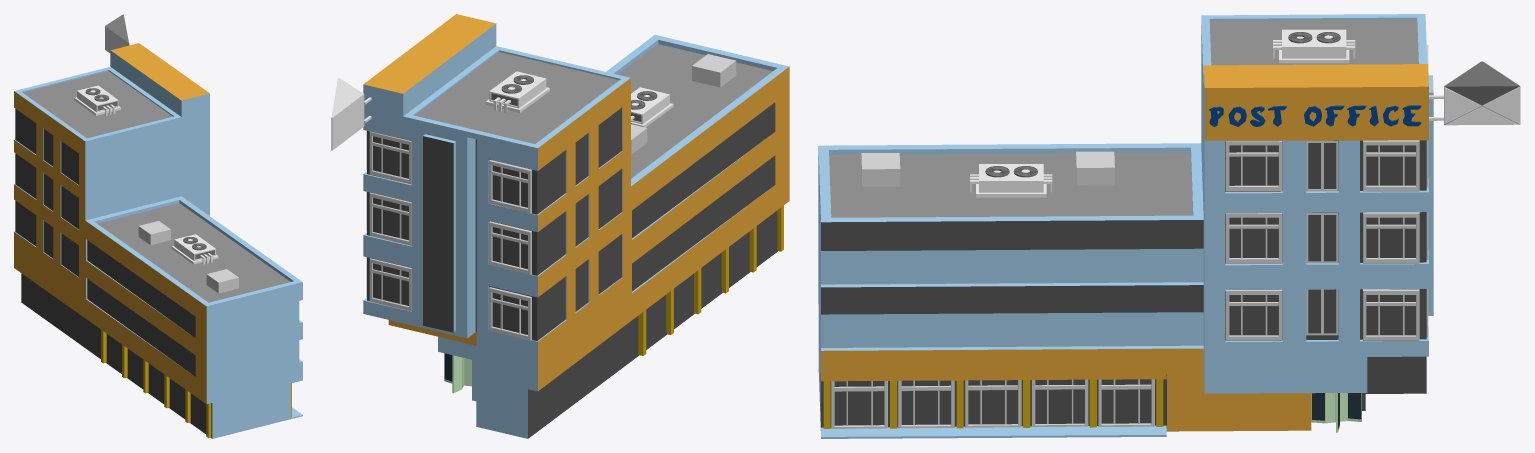
Rendered from Post_Office.glb.
The picture shows the model from 3 angles, left to right: view 1: azimuth 30°, elevation 25°; view 2: azimuth 150°, elevation 25°; view 3: azimuth 270°, elevation 25°; orthographic projection. The views are drawn at different scales.
Parts seen in each view (by area): view 1: post office, Cube.2382, Cube.13378, Cube.13377, Plane.438, Cube.2391, Cube.2392; view 2: post office, London Police Service Headquarters, 601 Dundas St, London, . (×6), Cube.2382, Plane.438, Cube.13377, Cube.13378, Cube.2392, Cube.11380, Cube.2380; view 3: post office, London Police Service Headquarters, 601 Dundas St, London, . (×11), Plane.438, Cube.13377, Cube.13378, Cube.2381, Text, Plane.1863, Cube.2380, Cube.2391, Cube.2392.
Boxes of the visible parts, x1,y1,x2,y2 form: post office: (14,43,302,438); Cube.2382: (101,330,211,437); Cube.13378: (171,234,218,264); Cube.13377: (74,85,120,115); Plane.438: (105,14,129,53); Cube.2391: (138,221,170,245); Cube.2392: (206,269,238,293); post office: (363,14,789,438); London Police Service Headquarters, 601 Dundas St, London, . (×6): (369,131,531,340); Cube.2382: (638,205,783,355); Plane.438: (331,77,371,150); Cube.13377: (485,71,549,112); Cube.13378: (631,87,673,127); Cube.2392: (692,54,736,87); Cube.11380: (444,353,471,386); Cube.2380: (452,355,464,393); post office: (818,14,1433,438); London Police Service Headquarters, 601 Dundas St, London, . (×11): (831,140,1419,428); Plane.438: (1429,61,1520,125); Cube.13377: (1273,29,1355,63); Cube.13378: (970,164,1052,197); Cube.2381: (823,379,1163,428); Text: (1209,105,1421,126); Plane.1863: (1306,141,1338,335); Cube.2380: (1311,393,1361,423); Cube.2391: (1076,151,1114,185); Cube.2392: (861,153,900,186).
Bounding box in the file's own units: 0.193 × 0.3542 × 0.5645.
